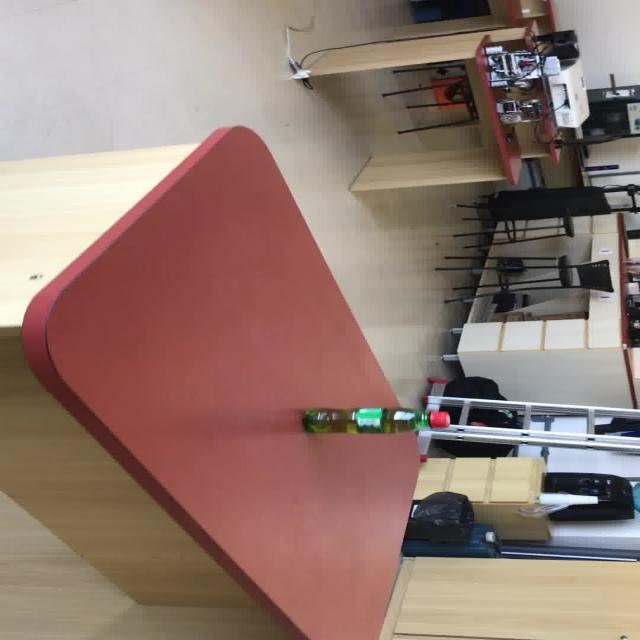guarana: (300, 406, 450, 433)
